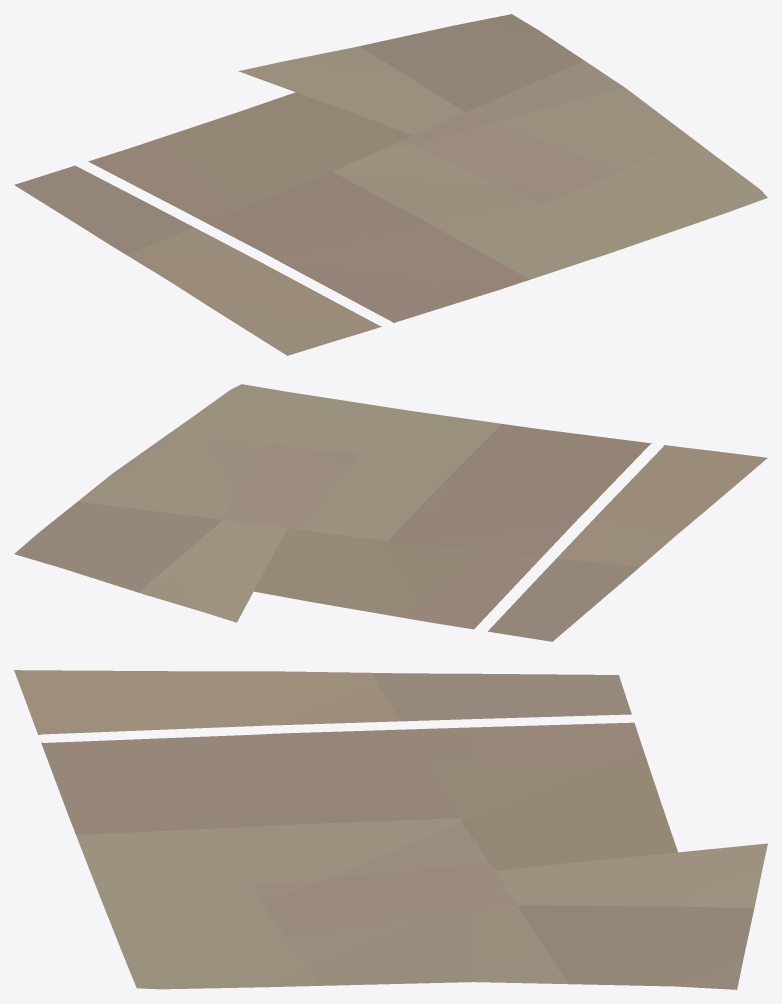
File: farm_5_16_soil.glb
3 renders of one model, top to bottom at view 1: azimuth 30°, elevation 25°; view 2: azimuth 150°, elevation 25°; view 3: azimuth 270°, elevation 25°, orthographic. The views are drawn at different scales.
Visible parts, largest first — view 1: geometry_0; view 2: geometry_0; view 3: geometry_0.
Boxes of the visible parts, bbox=[...] form: geometry_0: bbox=[14, 14, 767, 355]; geometry_0: bbox=[14, 384, 767, 641]; geometry_0: bbox=[14, 670, 767, 989].
Bounding box in the file's own units: 300 × 7.88 × 301.
